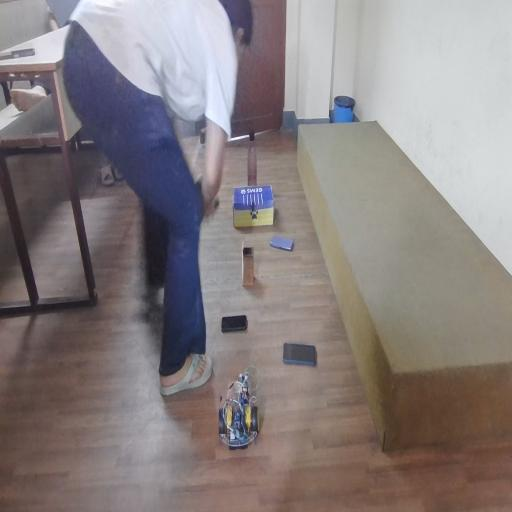Bottle: (247, 134, 265, 185)
car: (218, 379, 269, 451)
